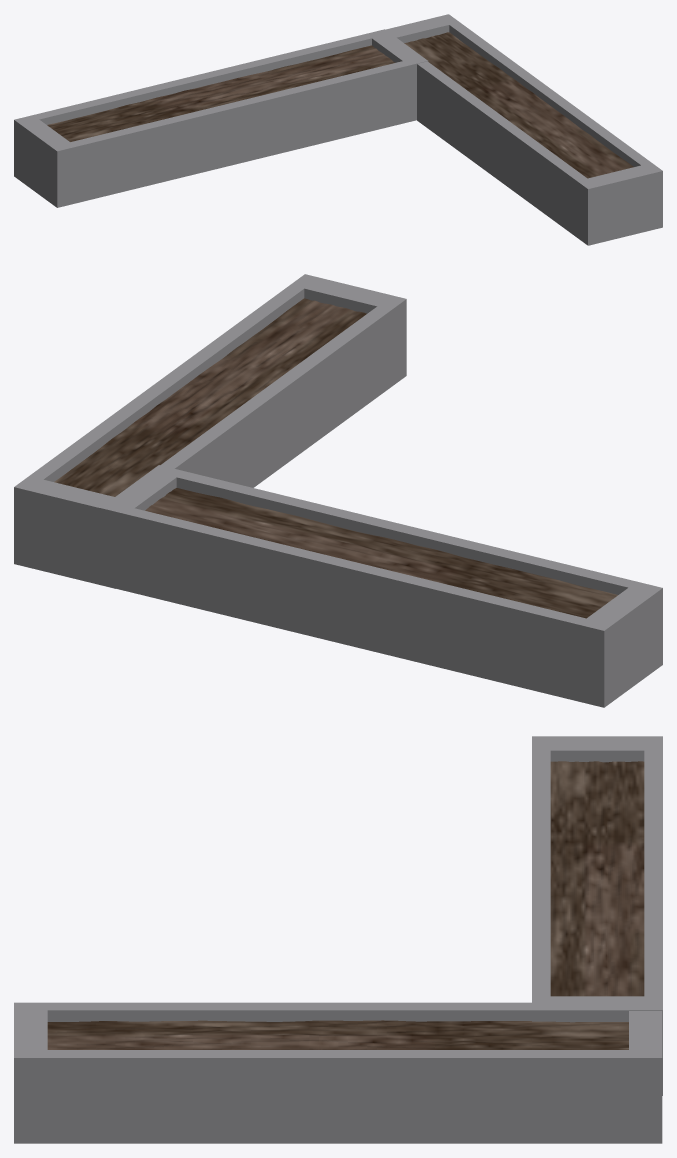
Rendered from Corner-Plant-Box.fbx.
3 renders of one model, top to bottom at view 1: azimuth 30°, elevation 25°; view 2: azimuth 150°, elevation 25°; view 3: azimuth 270°, elevation 25°, orthographic. The views are drawn at different scales.
Parts seen in each view (by area): view 1: Cube.002; view 2: Cube.002; view 3: Cube.002.
Boxes of the visible parts, x1,y1,x2,y2 form: Cube.002: (14,14,662,245); Cube.002: (14,274,662,707); Cube.002: (14,736,662,1143).
Bounding box in the file's own units: 82.76 × 10.36 × 70.71.
Materials: 4 (2 with a texture image).
